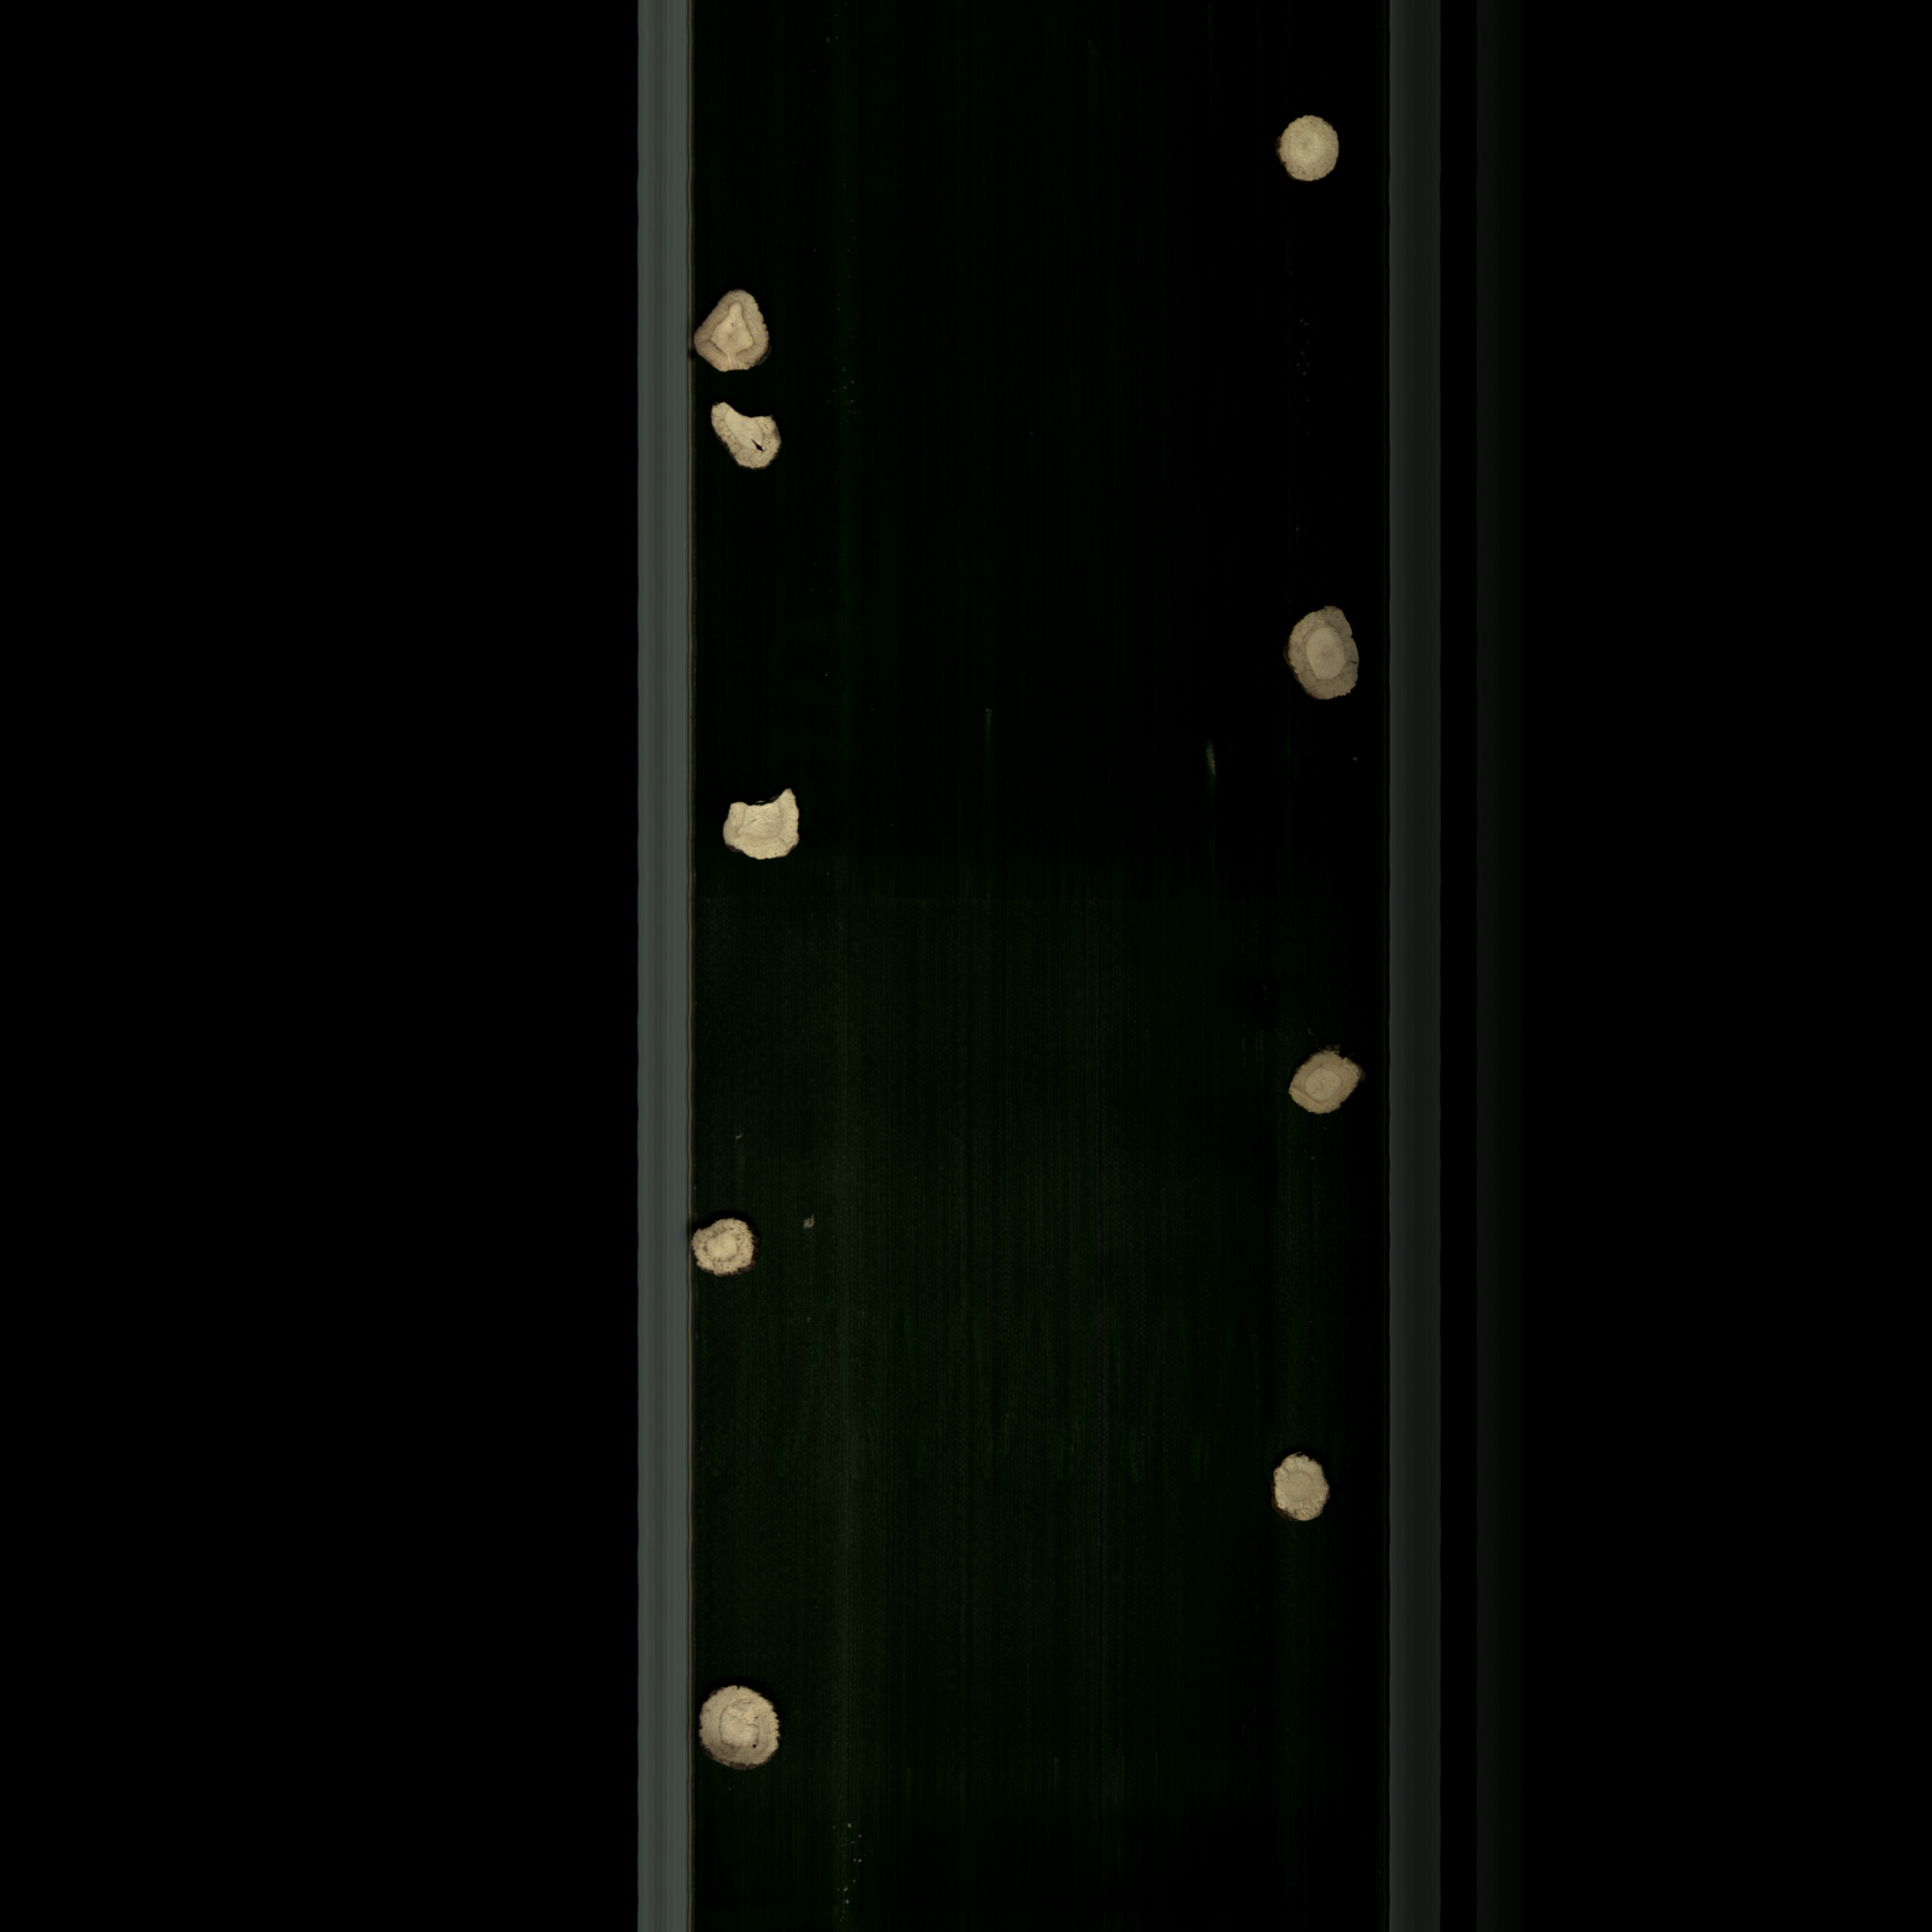debris: (709, 775, 816, 878), (701, 395, 805, 479)
hole: (681, 1667, 791, 1787)
moldy: (1277, 602, 1366, 717), (688, 281, 784, 386), (1270, 1039, 1371, 1134), (686, 1214, 773, 1288)
